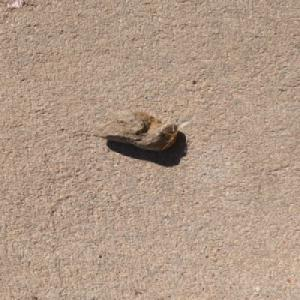Rock: (90, 110, 179, 151)
